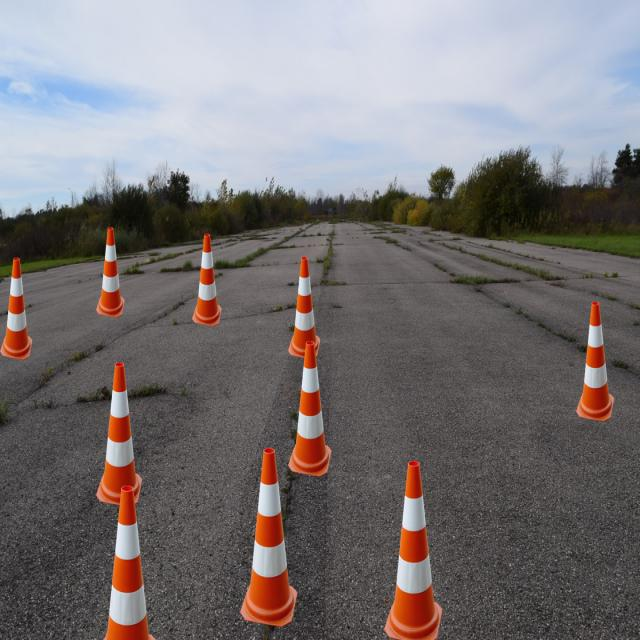large_orange_cone: (384, 461, 443, 640), (240, 448, 298, 627), (96, 485, 158, 640), (96, 362, 142, 508), (288, 341, 332, 477), (576, 302, 614, 422), (288, 257, 321, 359), (0, 258, 33, 360), (192, 234, 222, 326), (96, 227, 125, 318)
